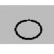no answer: (13, 18, 43, 41)
